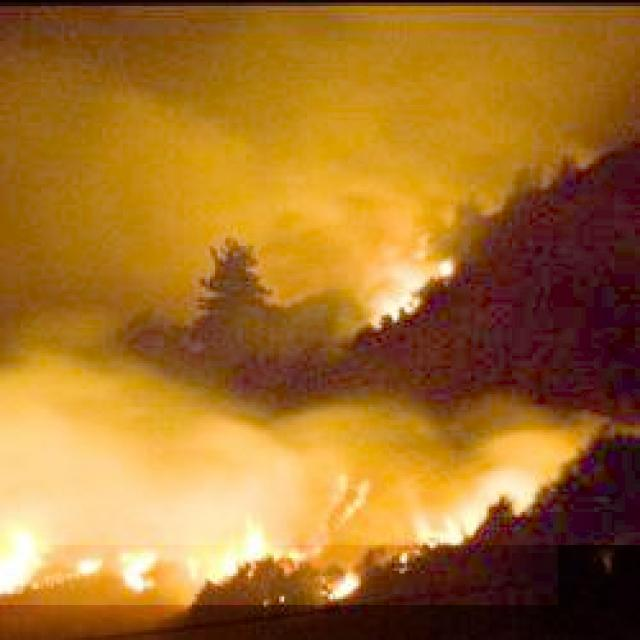Fire: (0, 460, 558, 605)
Smoke: (0, 6, 640, 545)
